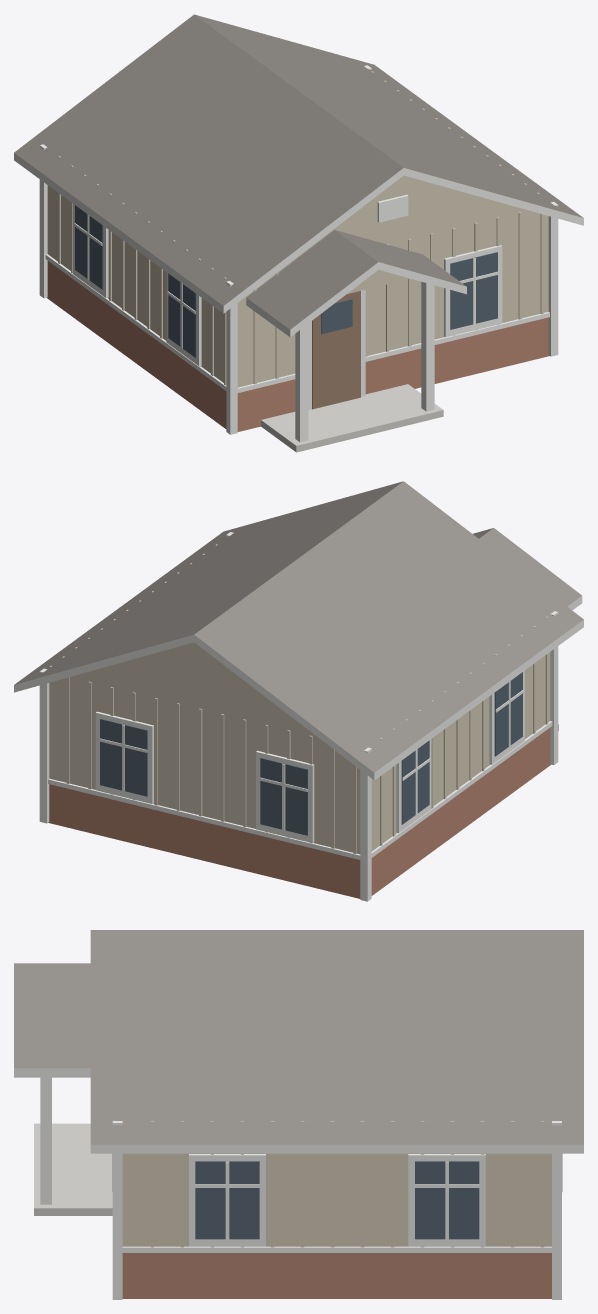
Rendered from ripon-craftsman.glb.
The picture shows the model from 3 angles, top to bottom: view 1: azimuth 30°, elevation 25°; view 2: azimuth 150°, elevation 25°; view 3: azimuth 270°, elevation 25°; orthographic projection. The views are drawn at different scales.
Visible parts, largest first — view 1: The Ripon (craftsman); view 2: The Ripon (craftsman); view 3: The Ripon (craftsman).
Part boxes in pixels (x1=…): The Ripon (craftsman): x1=14, y1=14, x2=583, y2=452; The Ripon (craftsman): x1=14, y1=481, x2=583, y2=901; The Ripon (craftsman): x1=14, y1=930, x2=583, y2=1299.
Bounding box in the file's own units: 6.86 × 4.27 × 7.98.
